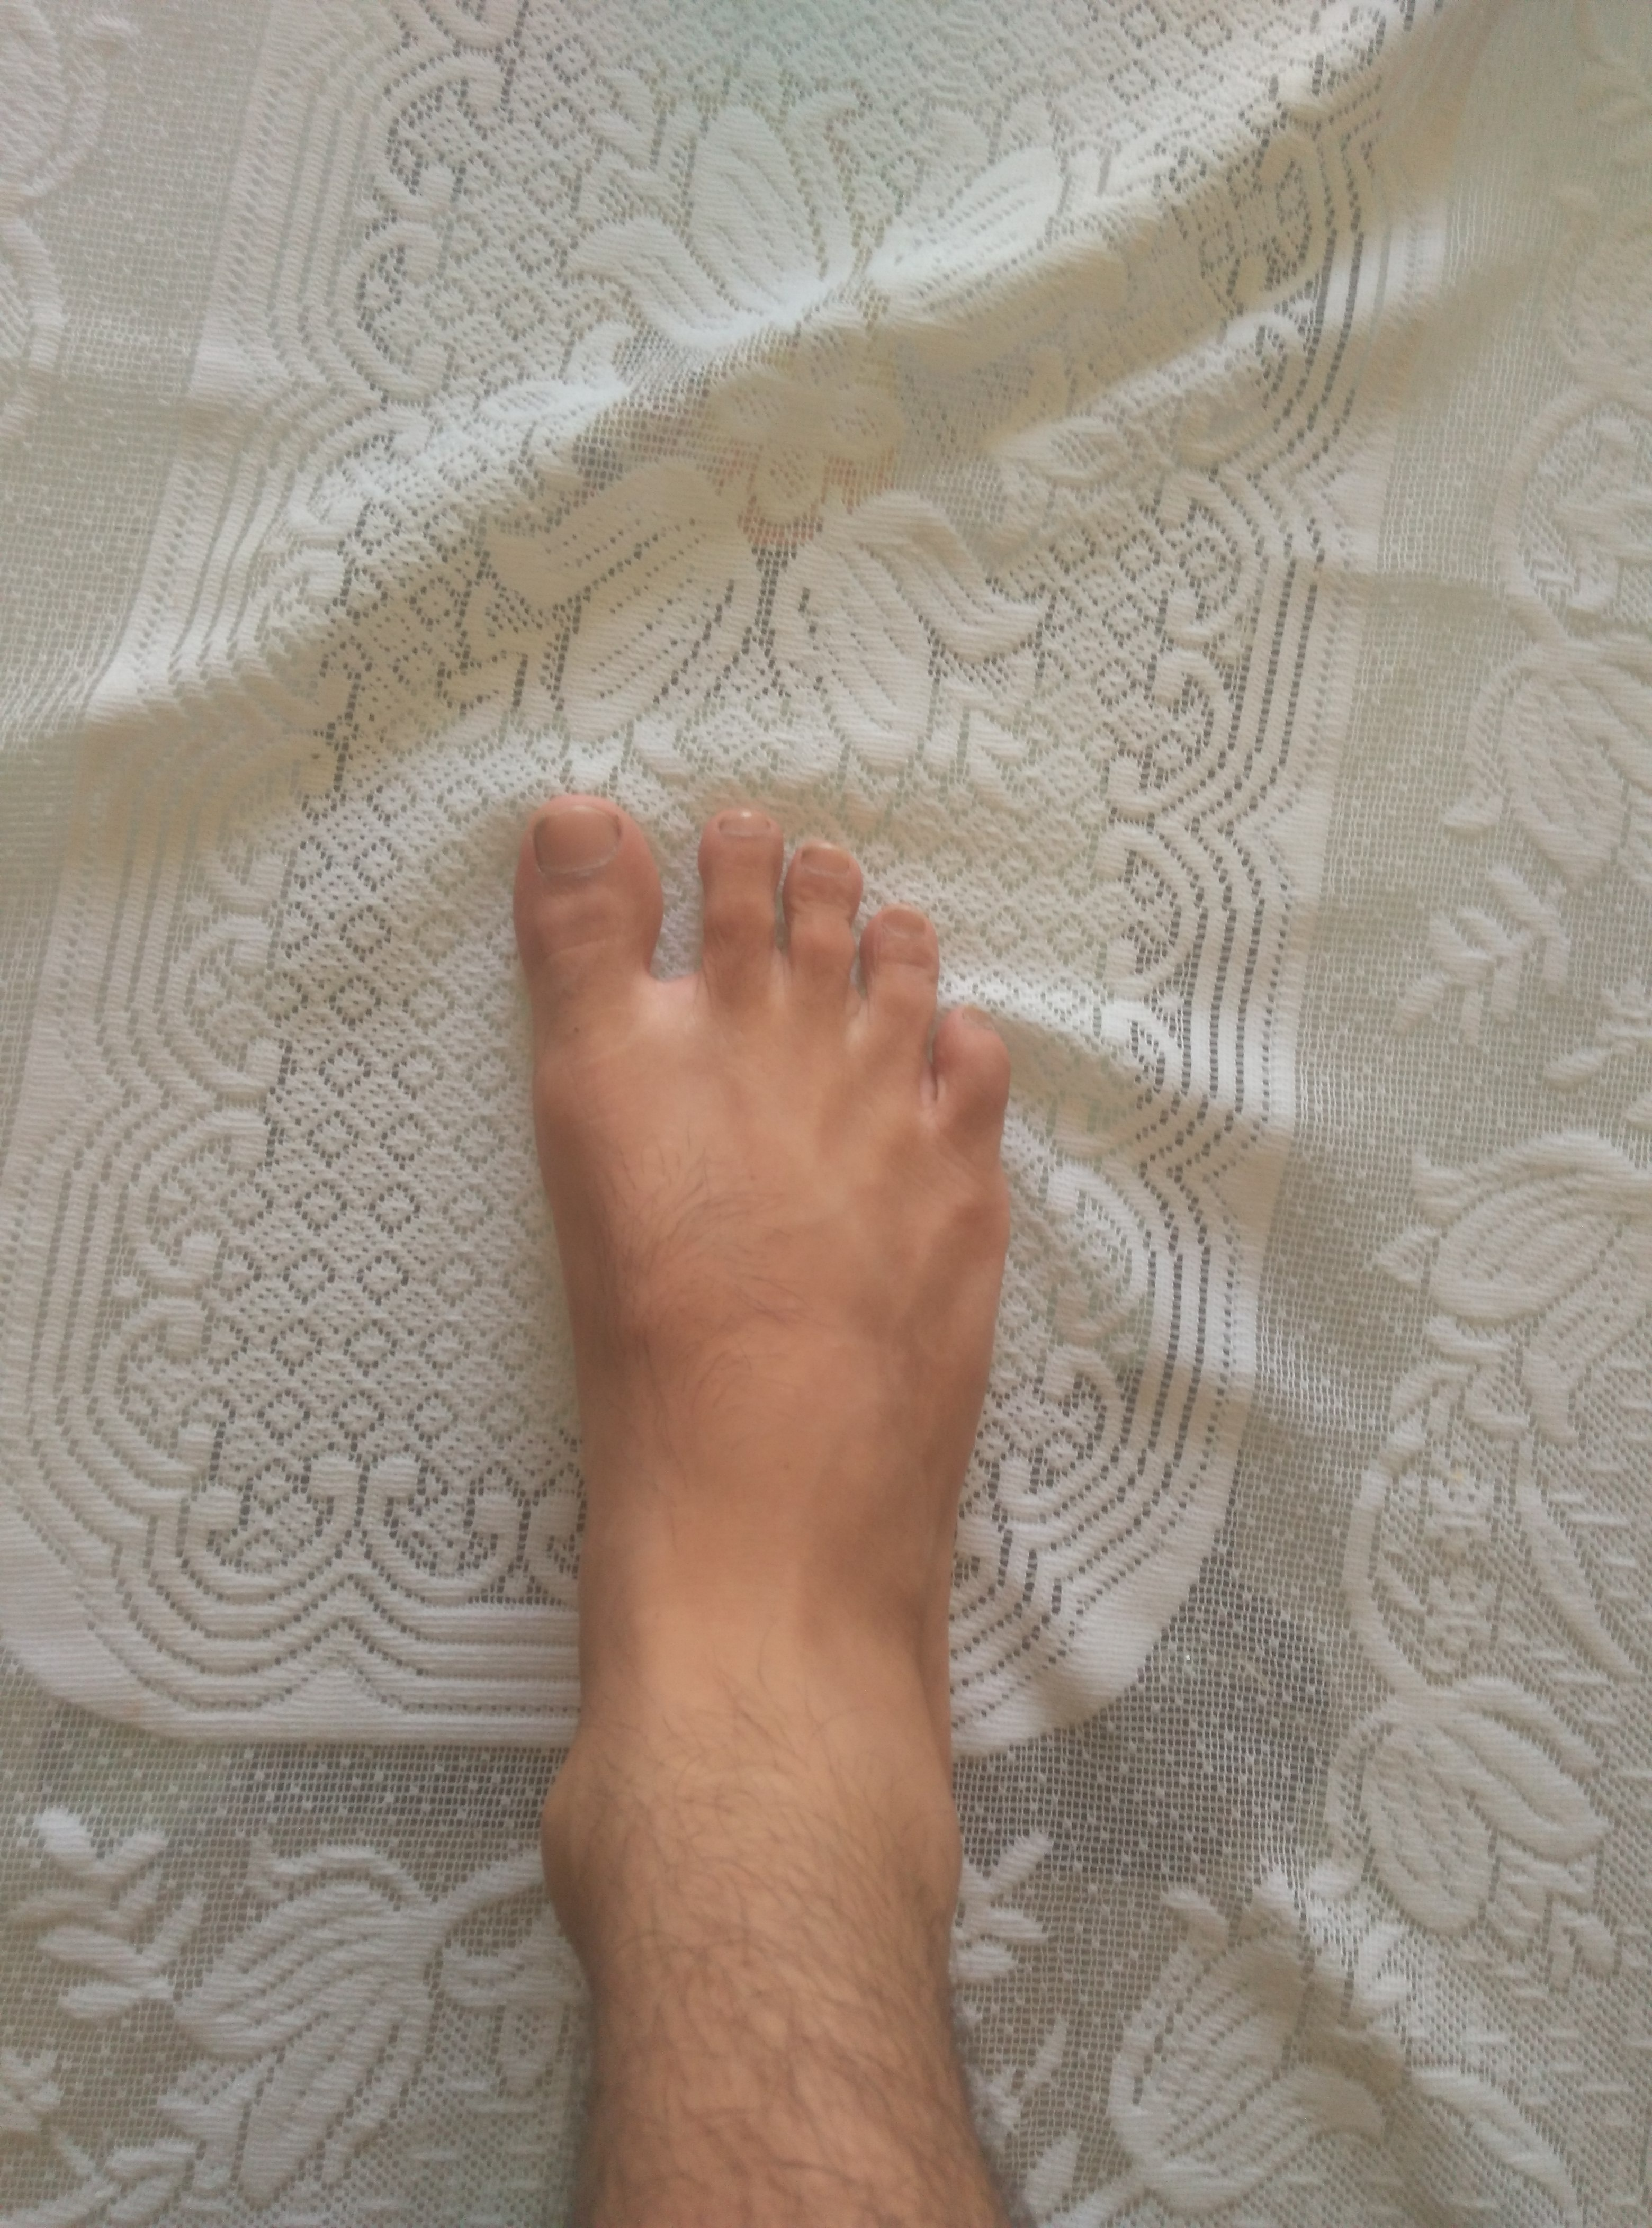feet: (416, 708, 1043, 1997)
